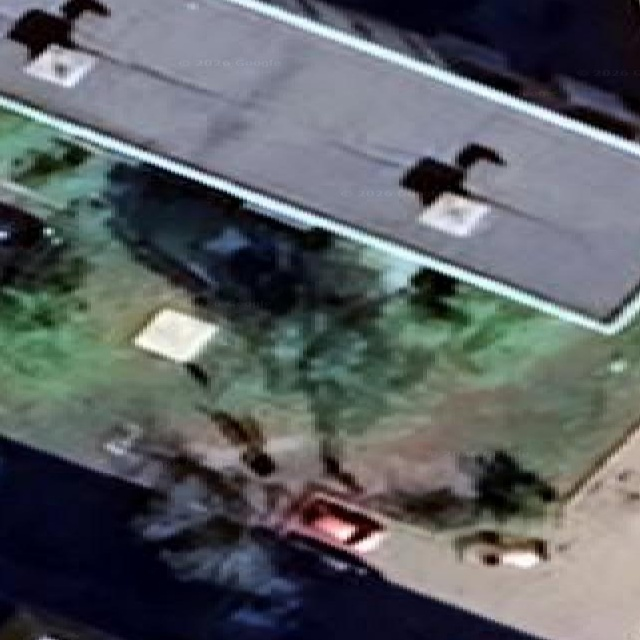car: (284, 490, 384, 555), (0, 203, 62, 285), (455, 530, 548, 568)
